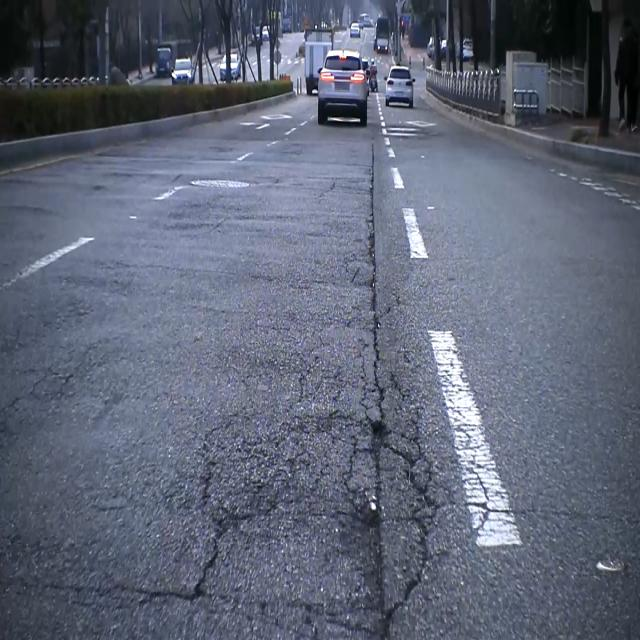Pothole: (344, 411, 417, 640)
